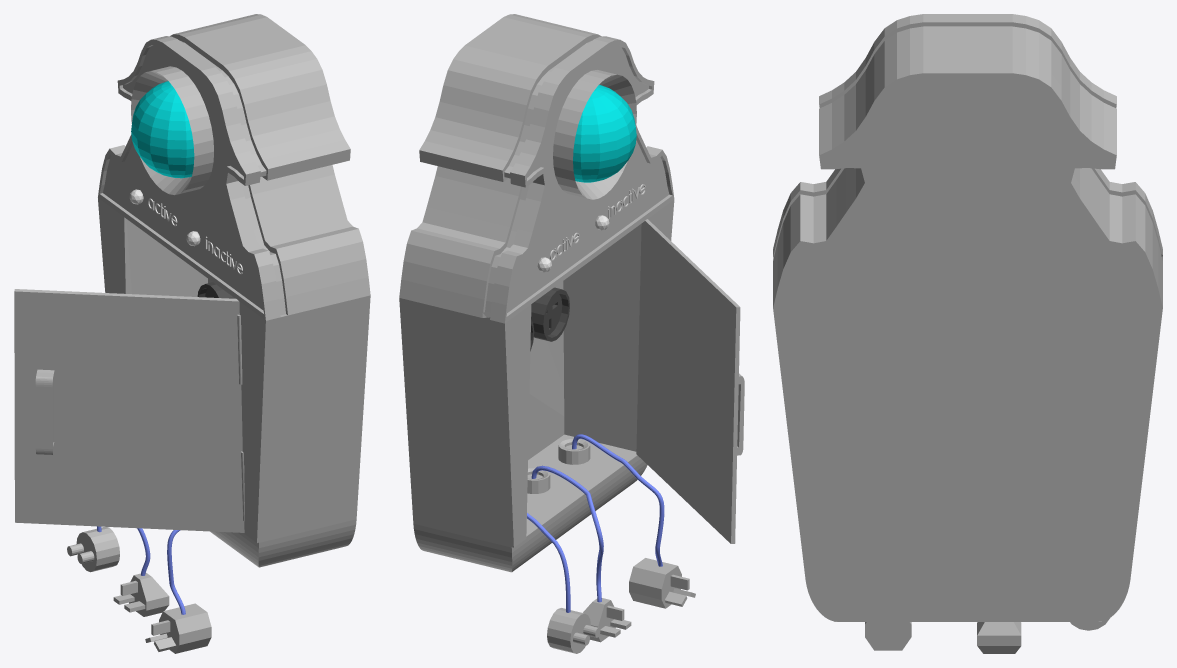
Rendered from Face_scanner.fbx.
The picture shows the model from 3 angles, left to right: view 1: azimuth 30°, elevation 25°; view 2: azimuth 150°, elevation 25°; view 3: azimuth 270°, elevation 25°; orthographic projection. The views are drawn at different scales.
Visible parts, largest first — view 1: Face Scanner, Face Scanner_door, plug_02, plug_01, plug_00; view 2: Face Scanner, Face Scanner_door, plug_02, plug_00, plug_01; view 3: Face Scanner, plug_01, plug_02.
Boxes of the visible parts, x1,y1,x2,y2 form: Face Scanner: (98, 14, 370, 567); Face Scanner_door: (14, 289, 244, 532); plug_02: (145, 530, 211, 653); plug_01: (113, 528, 169, 616); plug_00: (67, 526, 119, 572); Face Scanner: (399, 14, 674, 572); Face Scanner_door: (636, 219, 744, 543); plug_02: (572, 434, 695, 608); plug_00: (527, 513, 600, 653); plug_01: (531, 465, 631, 642); Face Scanner: (773, 14, 1162, 621); plug_01: (977, 622, 1021, 653); plug_02: (865, 622, 911, 650).
Size of the model in its own units: 26.22 by 53.08 by 29.
